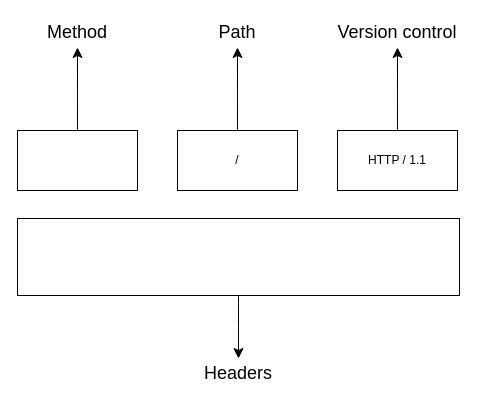
The diagram is 485 pixels wide and 405 high, and some of its shapes have lost their labels. Each missing label, with the centre of its shape:
"GET" belongs at (x=77, y=160).
"Host: developer.mozilla.org Accept-Language: en" belongs at (x=238, y=257).
